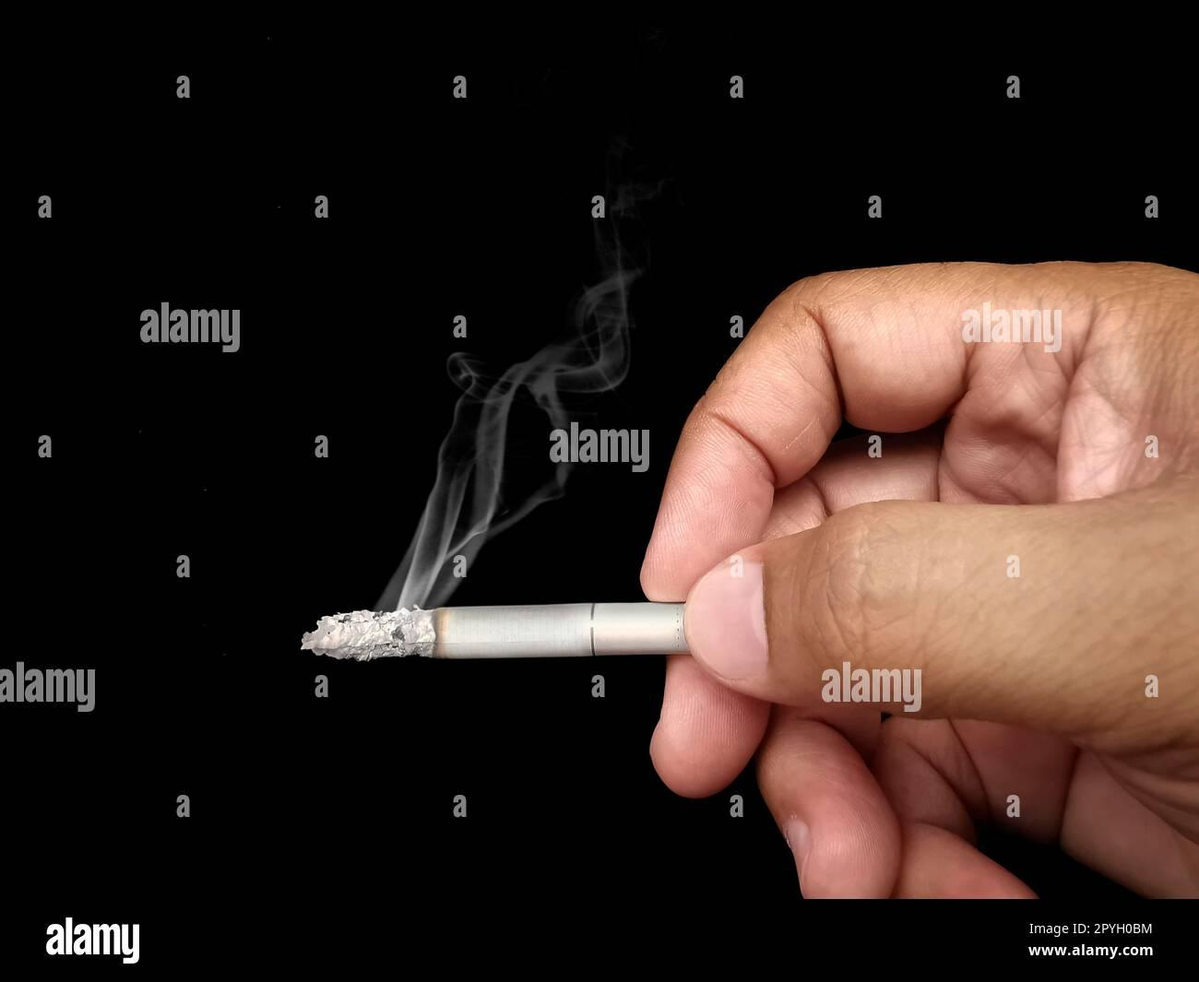cigarette: (302, 603, 687, 659)
